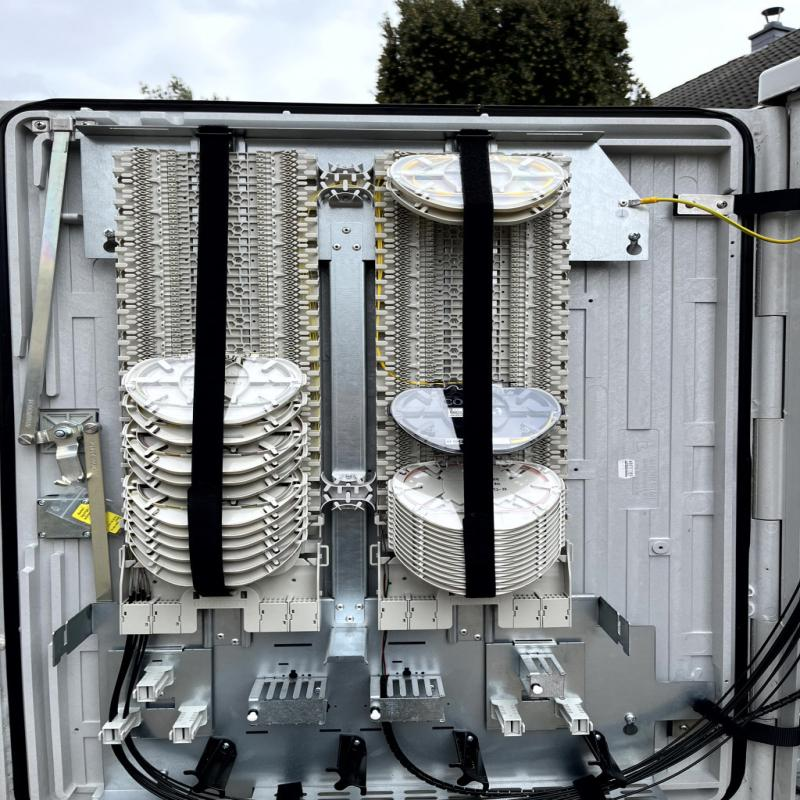NT-Gehause: (6, 70, 795, 796)
Spleiskassetten: (355, 139, 580, 642), (115, 135, 330, 646)
